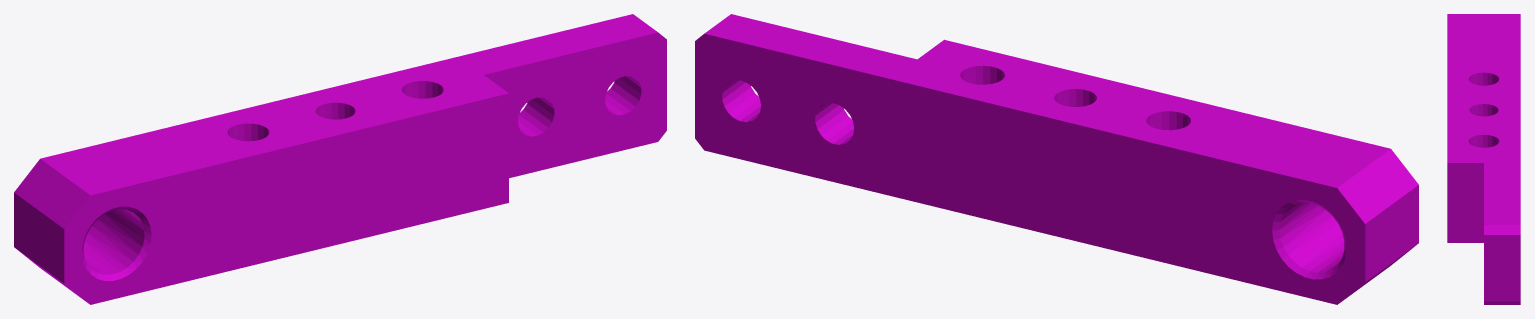
The model's file is mhand2_finger_origin.dae.
3 renders of one model, left to right at view 1: azimuth 30°, elevation 25°; view 2: azimuth 150°, elevation 25°; view 3: azimuth 270°, elevation 25°, orthographic. The views are drawn at different scales.
Parts seen in each view (by area): view 1: Mhand_Finger; view 2: Mhand_Finger; view 3: Mhand_Finger.
Boxes of the visible parts, x1,y1,x2,y2 form: Mhand_Finger: (14,14,666,304); Mhand_Finger: (695,14,1418,304); Mhand_Finger: (1447,14,1520,304).
Size of the model in its own units: 0.072 by 0.01 by 0.012.
